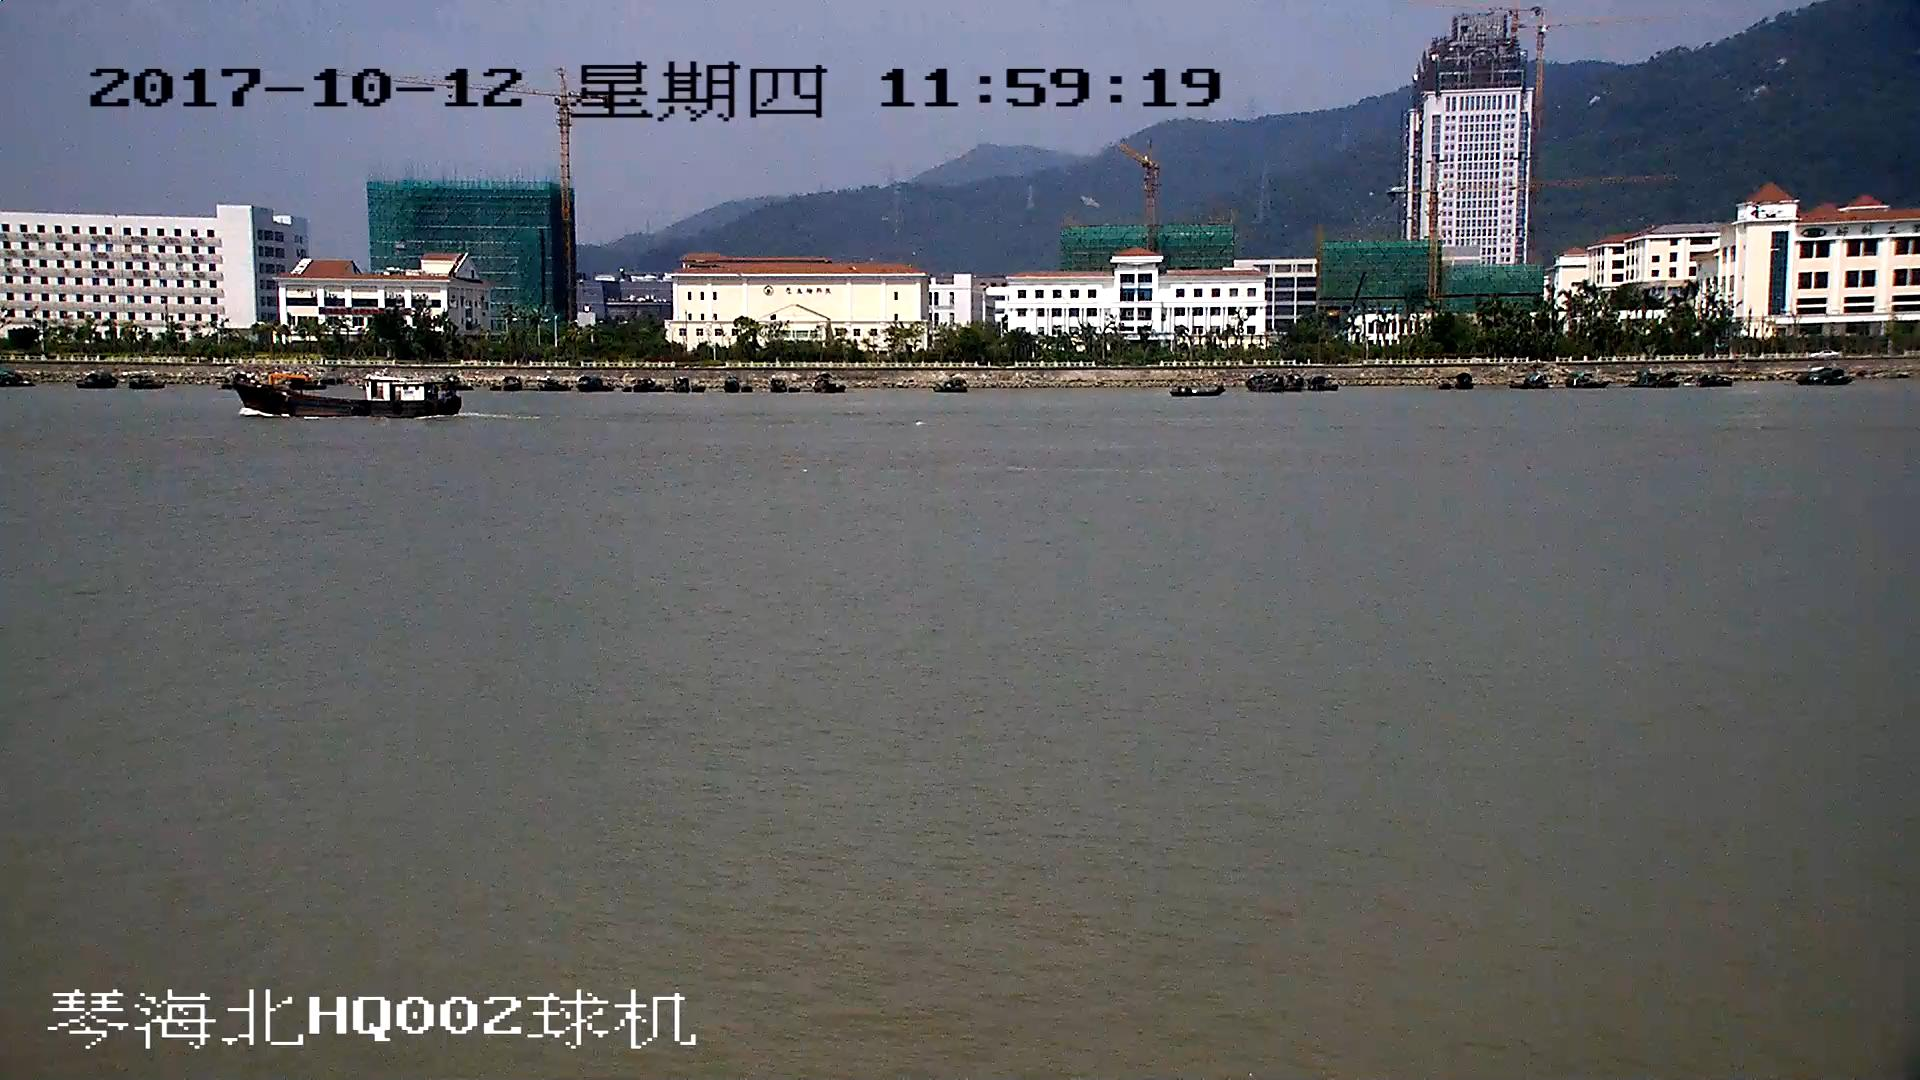fishing boat: (231, 372, 455, 417)
